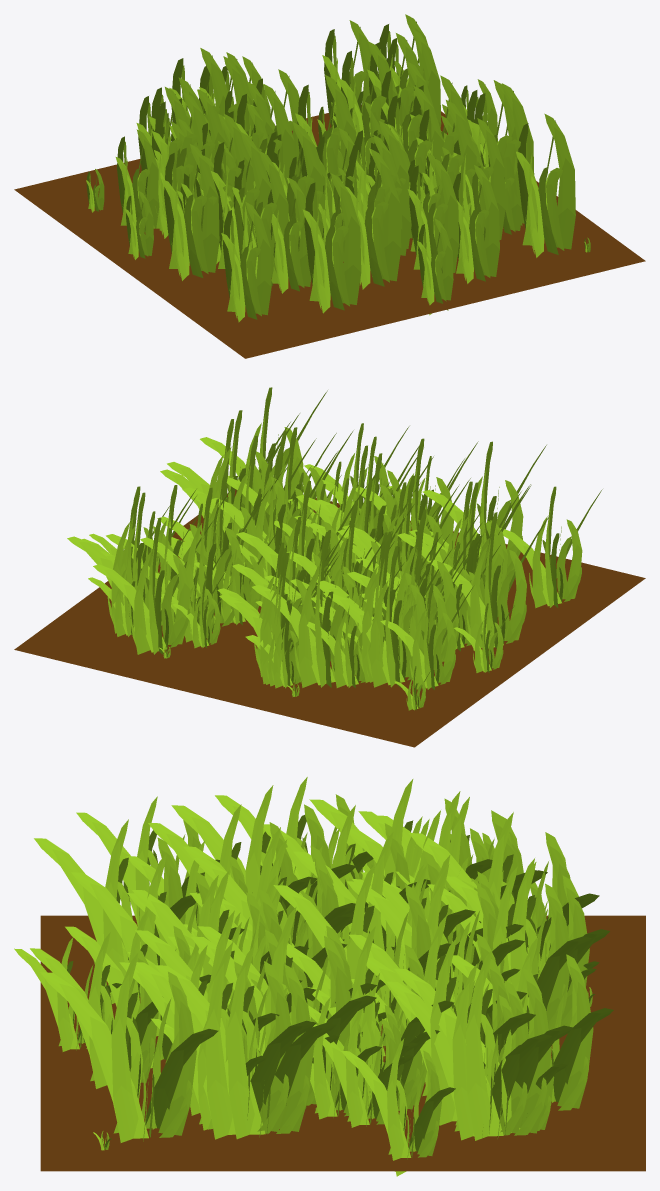
Rendered from Tile.fbx.
The picture shows the model from 3 angles, top to bottom: view 1: azimuth 30°, elevation 25°; view 2: azimuth 150°, elevation 25°; view 3: azimuth 270°, elevation 25°; orthographic projection. The views are drawn at different scales.
Visible parts, largest first — view 1: Plane, Plane|Plane.013|Dupli|5, Plane|Plane.013|Dupli|9, Plane|Plane.013|Dupli|25, Plane|Plane.013|Dupli|2, Plane|Plane.013|Dupli|8, Plane|Plane.013|Dupli|3, Plane|Plane.013|Dupli|27, Plane|Plane.013|Dupli|23, Plane|Plane.013|Dupli|4, Plane|Plane.013|Dupli|6, Plane|Plane.013|Dupli|28 (+41 smaller); view 2: Plane, Plane|Plane.013|Dupli|47, Plane|Plane.013|Dupli|70, Plane|Plane.013|Dupli|25, Plane|Plane.013|Dupli|87, Plane|Plane.013|Dupli|8, Plane|Plane.013|Dupli|50, Plane|Plane.013|Dupli|6, Plane|Plane.013|Dupli|9, Plane|Plane.013|Dupli|27, Plane|Plane.013|Dupli|49, Plane|Plane.013|Dupli|85 (+46 smaller); view 3: Plane, Plane|Plane.013|Dupli|5, Plane|Plane.013|Dupli|77, Plane|Plane.013|Dupli|75, Plane|Plane.013|Dupli|49, Plane|Plane.013|Dupli|48, Plane|Plane.013|Dupli|47, Plane|Plane.013|Dupli|14, Plane|Plane.013|Dupli|9, Plane|Plane.013|Dupli|72, Plane|Plane.013|Dupli|58, Plane|Plane.013|Dupli|16 (+40 smaller).
Part boxes in pixels (<box>): Plane: <box>14,105,645,358</box>; Plane|Plane.013|Dupli|5: <box>516,113,575,257</box>; Plane|Plane.013|Dupli|9: <box>302,173,361,313</box>; Plane|Plane.013|Dupli|25: <box>162,144,219,280</box>; Plane|Plane.013|Dupli|2: <box>345,149,401,289</box>; Plane|Plane.013|Dupli|8: <box>221,202,271,322</box>; Plane|Plane.013|Dupli|3: <box>453,165,499,283</box>; Plane|Plane.013|Dupli|27: <box>211,132,271,268</box>; Plane|Plane.013|Dupli|23: <box>407,157,459,273</box>; Plane|Plane.013|Dupli|4: <box>267,178,311,293</box>; Plane|Plane.013|Dupli|6: <box>115,129,159,231</box>; Plane|Plane.013|Dupli|28: <box>232,151,288,285</box>; Plane: <box>14,489,645,747</box>; Plane|Plane.013|Dupli|47: <box>93,517,213,654</box>; Plane|Plane.013|Dupli|70: <box>252,531,382,687</box>; Plane|Plane.013|Dupli|25: <box>428,512,550,650</box>; Plane|Plane.013|Dupli|87: <box>328,546,451,687</box>; Plane|Plane.013|Dupli|8: <box>500,486,602,608</box>; Plane|Plane.013|Dupli|50: <box>140,487,268,631</box>; Plane|Plane.013|Dupli|6: <box>380,583,473,689</box>; Plane|Plane.013|Dupli|9: <box>422,441,546,574</box>; Plane|Plane.013|Dupli|27: <box>397,481,530,606</box>; Plane|Plane.013|Dupli|49: <box>67,486,196,633</box>; Plane|Plane.013|Dupli|85: <box>316,531,449,682</box>; Plane: <box>40,915,645,1171</box>; Plane|Plane.013|Dupli|5: <box>40,953,218,1142</box>; Plane|Plane.013|Dupli|77: <box>155,945,335,1139</box>; Plane|Plane.013|Dupli|75: <box>135,942,316,1139</box>; Plane|Plane.013|Dupli|49: <box>394,949,573,1140</box>; Plane|Plane.013|Dupli|48: <box>386,963,551,1140</box>; Plane|Plane.013|Dupli|47: <box>451,936,613,1110</box>; Plane|Plane.013|Dupli|14: <box>341,1038,455,1176</box>; Plane|Plane.013|Dupli|9: <box>34,819,197,1003</box>; Plane|Plane.013|Dupli|72: <box>427,866,591,1030</box>; Plane|Plane.013|Dupli|58: <box>191,916,376,1109</box>; Plane|Plane.013|Dupli|16: <box>273,865,457,1056</box>.
Bounding box in the file's own units: 2000 × 794 × 2089.
